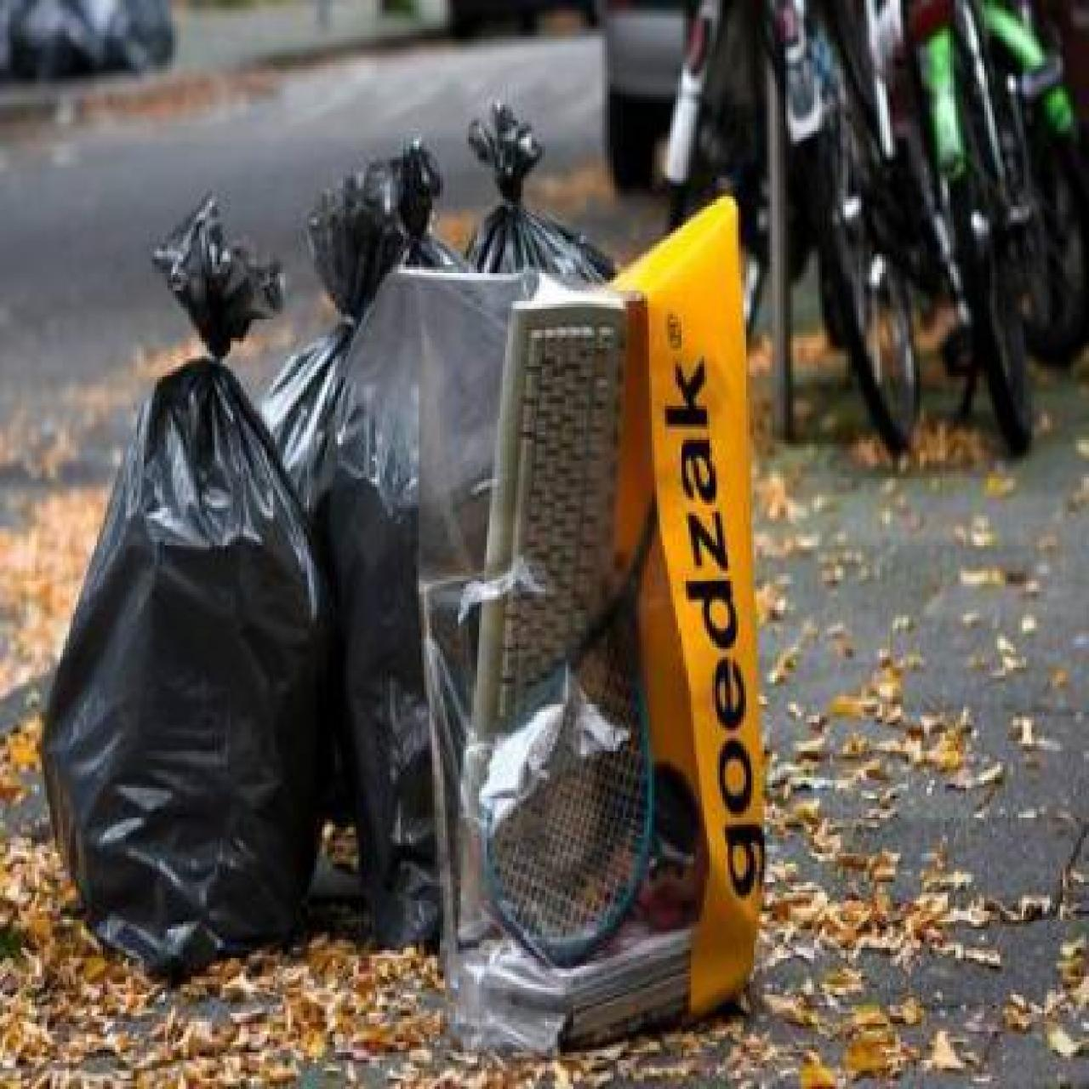normal_waste: (41, 198, 331, 978), (261, 143, 441, 946), (614, 198, 766, 1012), (471, 302, 656, 966)
